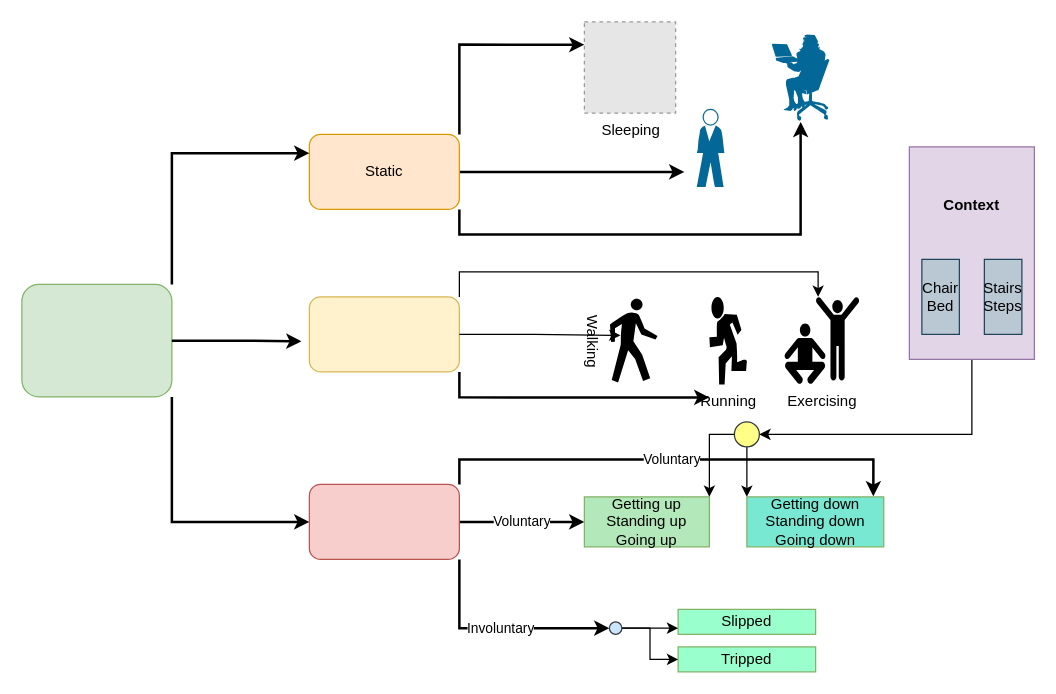
Image size: 1056x694. Some labels were removed from this diagram. Grey dashed boxes stand in for pictures. Each missing label, with the box of its shape:
Activity Types: (21, 283, 172, 397)
Change Of Posture: (308, 483, 459, 559)
Dynamic: (308, 296, 459, 372)
Sitting: (770, 32, 830, 122)
Standing: (695, 108, 725, 188)
